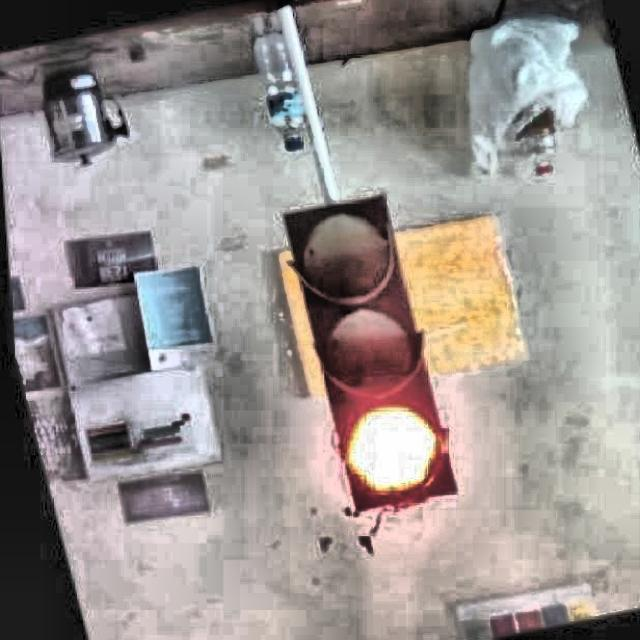red: (288, 202, 470, 510)
